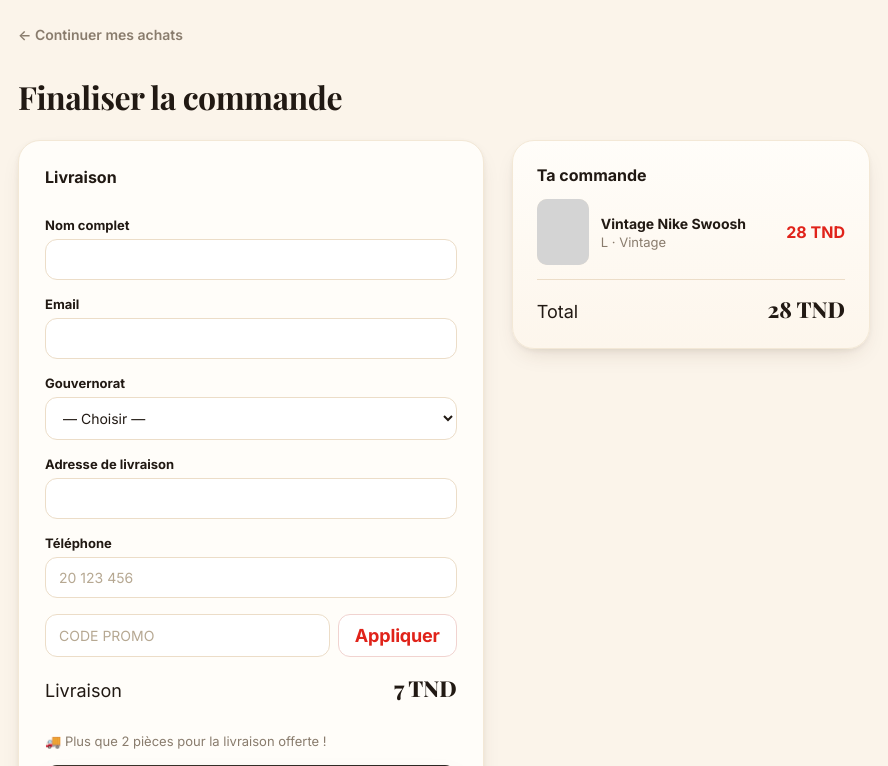
Scenario: CheckoutPage › adds the governorate delivery fee to the payable total
Select "Sousse" in the dropdown labelled "Gouvernorat" at (251,418), box [45,397,457,440]
(page scrolled)
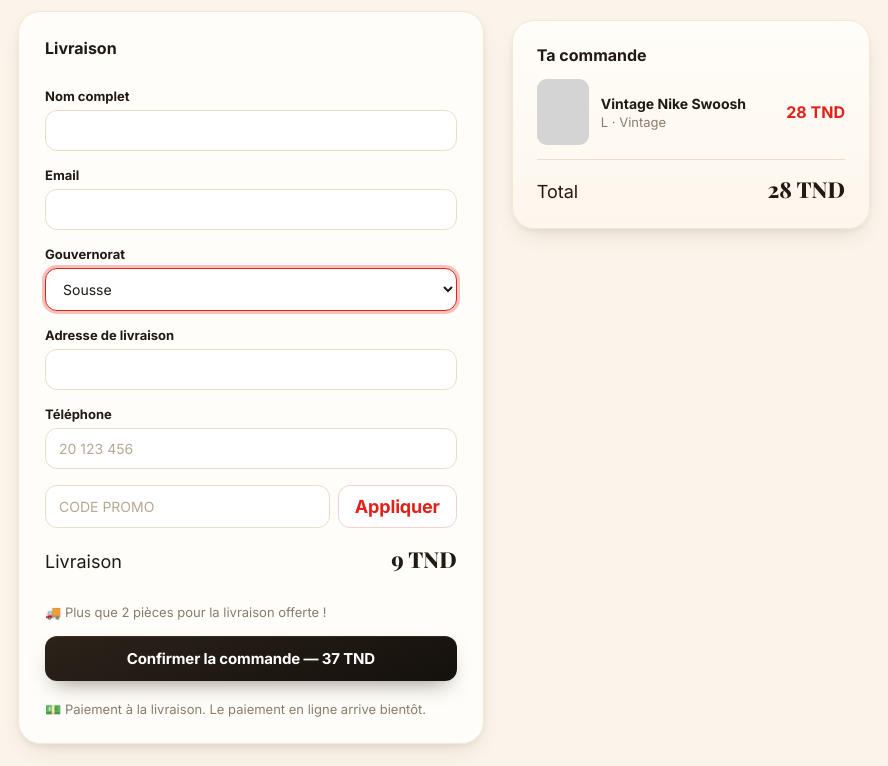
Now the button "Confirmer la commande — 37 TND" is shown, box [45,636,457,681]
